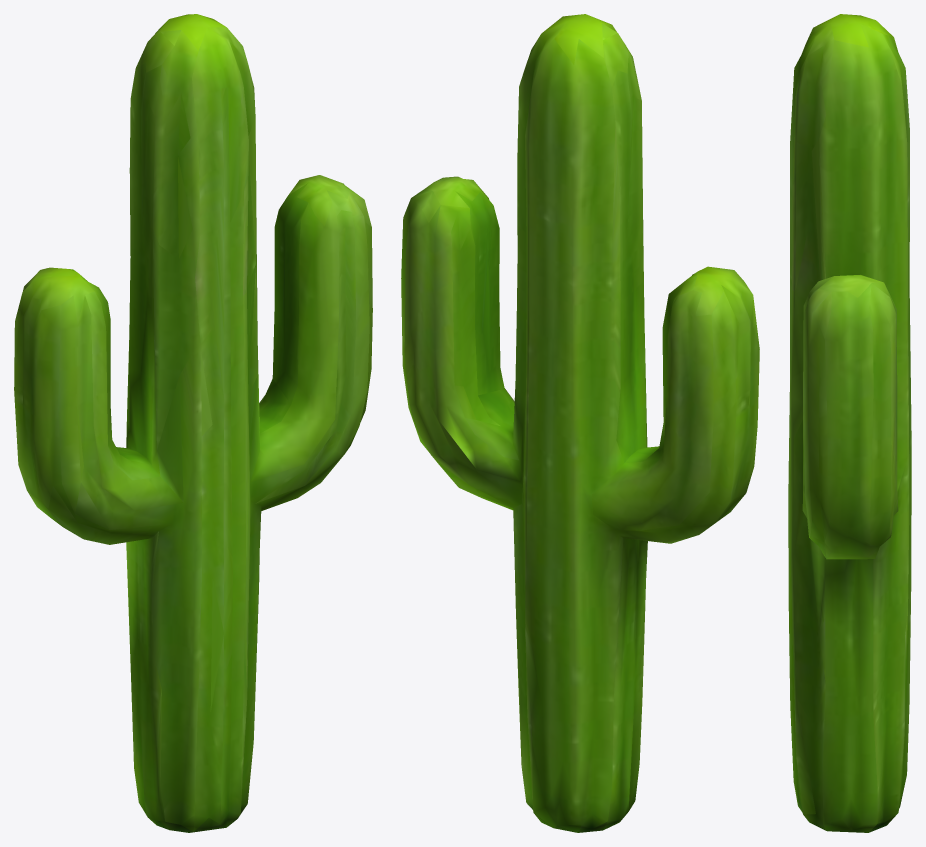
Rendered from lg-cactus-tall.glb.
3 views of the same model, side by side, from view 1: azimuth 30°, elevation 25°; view 2: azimuth 150°, elevation 25°; view 3: azimuth 270°, elevation 25° (orthographic).
Visible parts, largest first — view 1: geometry_0; view 2: geometry_0; view 3: geometry_0.
Part boxes in pixels (x1=…): geometry_0: x1=14, y1=14, x2=372, y2=832; geometry_0: x1=401, y1=14, x2=759, y2=832; geometry_0: x1=788, y1=14, x2=911, y2=832.
Bounding box in the file's own units: 0.447 × 1 × 0.1405.
Materials: 1 (1 with a texture image).
